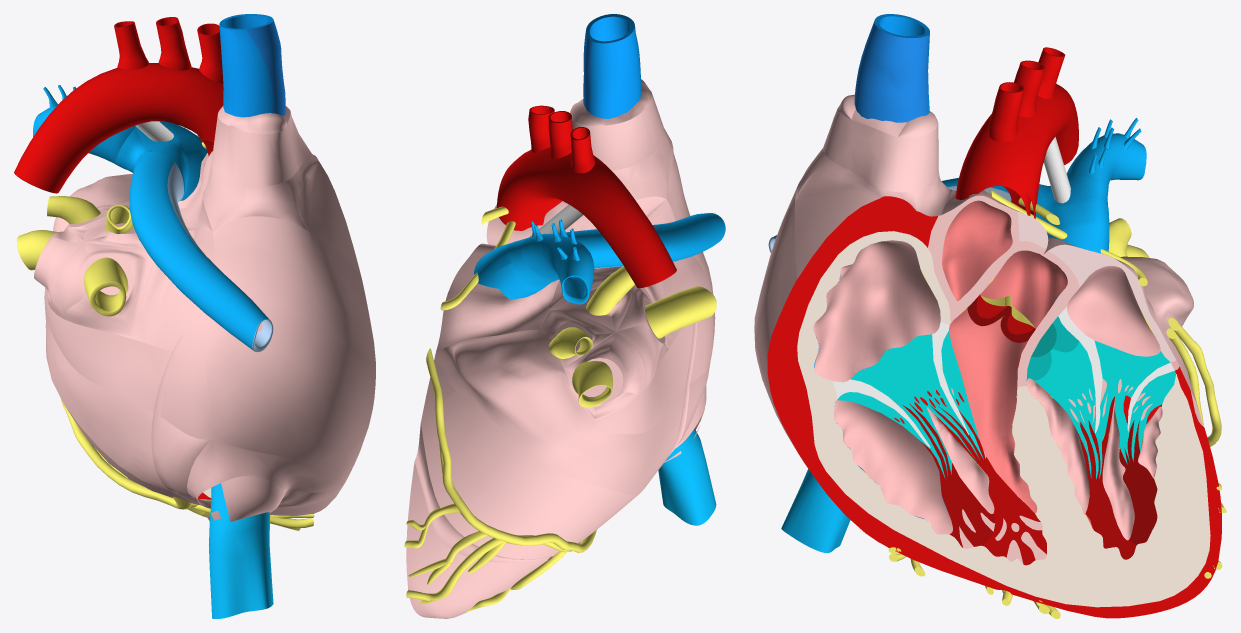
File: PDA_medium.glb
The picture shows the model from 3 angles, left to right: view 1: azimuth 30°, elevation 25°; view 2: azimuth 150°, elevation 25°; view 3: azimuth 270°, elevation 25°; orthographic projection. The views are drawn at different scales.
Parts seen in each view (by area): view 1: NONE, Cylinder; view 2: NONE, Cylinder; view 3: NONE, Cylinder.
Part boxes in pixels (<box>): NONE: <box>14,14,375,618</box>; Cylinder: <box>135,121,173,141</box>; NONE: <box>404,14,725,618</box>; Cylinder: <box>529,204,583,237</box>; NONE: <box>754,14,1226,618</box>; Cylinder: <box>1043,137,1070,203</box>.
Size of the model in its own units: 1.91 by 5 by 3.77.
